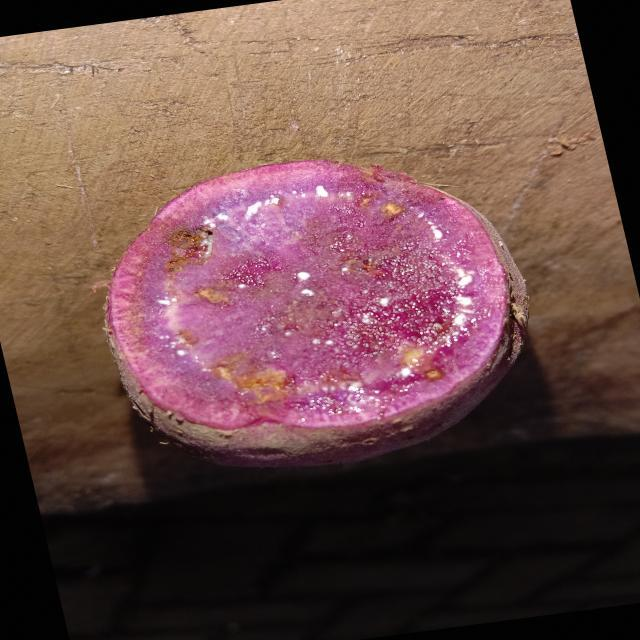Sick Sweet Potato_Tuber Rot: (107, 160, 527, 466)
